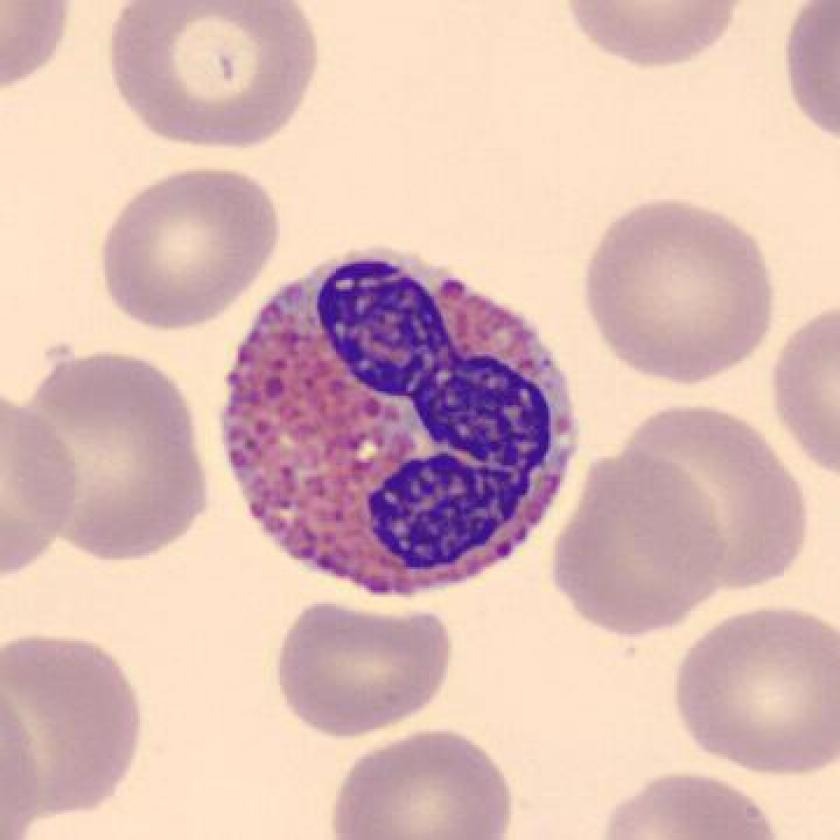eosinophil: (204, 228, 596, 617)
